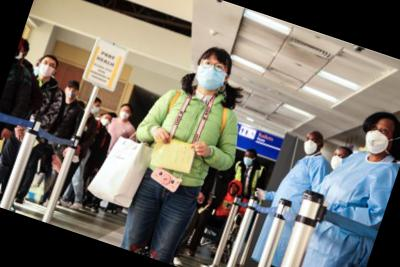with_mask: (192, 55, 232, 96), (362, 120, 395, 159), (36, 59, 59, 81), (301, 135, 321, 159), (328, 152, 347, 174), (61, 85, 80, 102), (117, 107, 133, 124), (242, 154, 256, 169), (99, 115, 112, 129), (90, 103, 102, 117)
without_mask: (228, 185, 239, 197)
